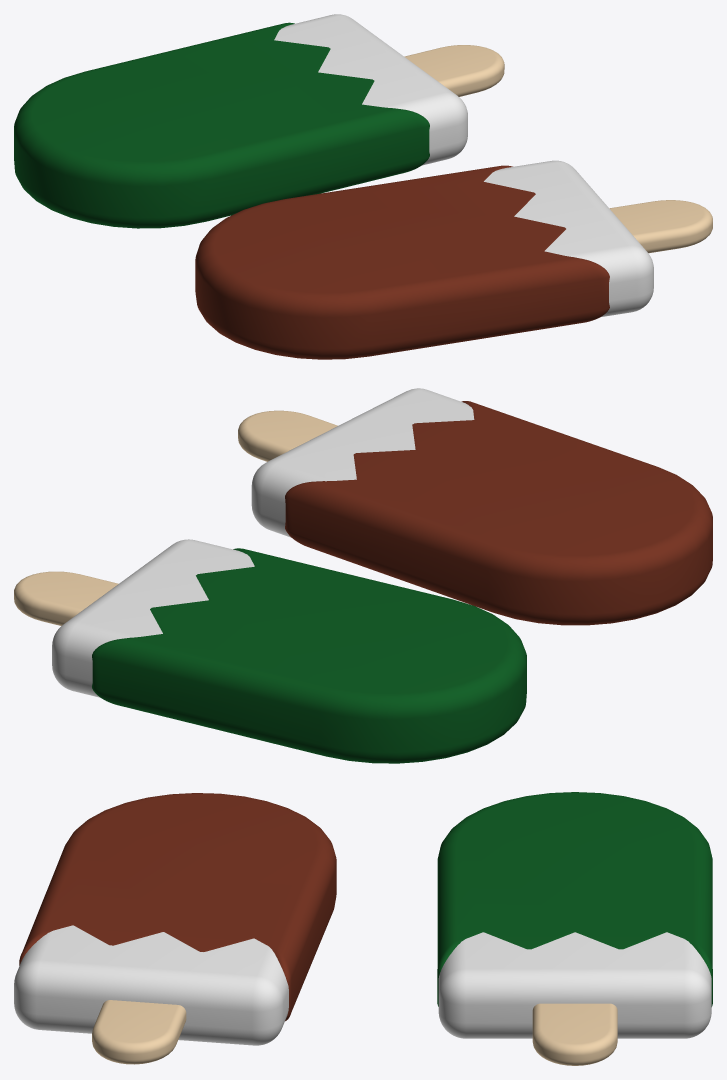
Rendered from ice.glb.
3 views of the same model, one above another, from view 1: azimuth 30°, elevation 25°; view 2: azimuth 150°, elevation 25°; view 3: azimuth 270°, elevation 25° (orthographic). The views are drawn at different scales.
Visible parts, largest first — view 1: 円.004, 円.001, 円.003, 円, 円.005, 円.002; view 2: 円.001, 円.004, 円, 円.003, 円.002, 円.005; view 3: 円.004, 円.001, 円, 円.003, 円.005, 円.002.
Part boxes in pixels (bbox=[...]): 円.004: bbox=[195, 165, 609, 359]; 円.001: bbox=[14, 22, 429, 228]; 円.003: bbox=[484, 160, 653, 316]; 円: bbox=[274, 14, 467, 165]; 円.005: bbox=[609, 200, 712, 253]; 円.002: bbox=[404, 45, 504, 96]; 円.001: bbox=[92, 548, 526, 763]; 円.004: bbox=[285, 401, 712, 625]; 円: bbox=[52, 539, 254, 697]; 円.003: bbox=[251, 388, 474, 537]; 円.002: bbox=[14, 571, 118, 625]; 円.005: bbox=[238, 410, 337, 461]; 円.004: bbox=[19, 793, 336, 1021]; 円.001: bbox=[437, 792, 712, 1006]; 円: bbox=[438, 932, 711, 1038]; 円.003: bbox=[14, 925, 288, 1045]; 円.005: bbox=[92, 1000, 186, 1064]; 円.002: bbox=[532, 1003, 617, 1065].
Bounding box in the file's own units: 4.14 × 0.5485 × 5.12.
